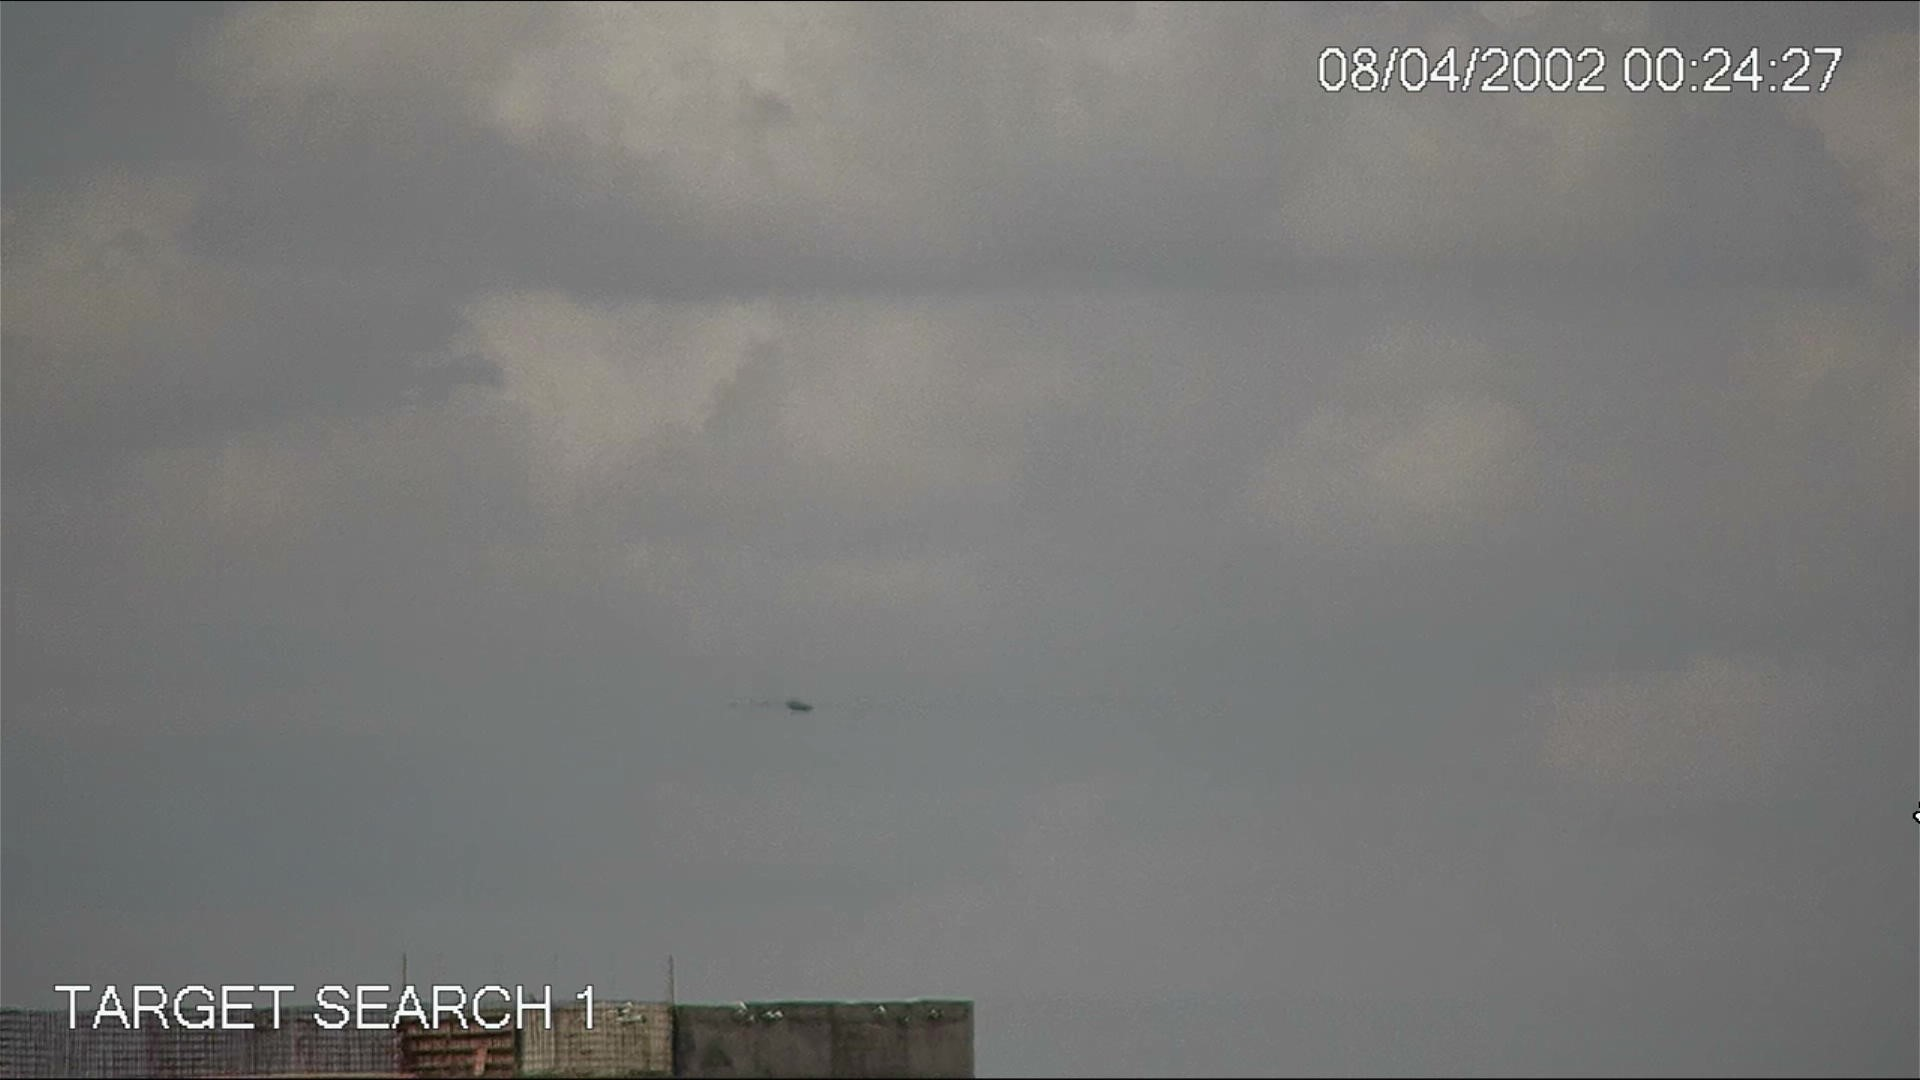SU_30: (748, 683, 818, 720)
